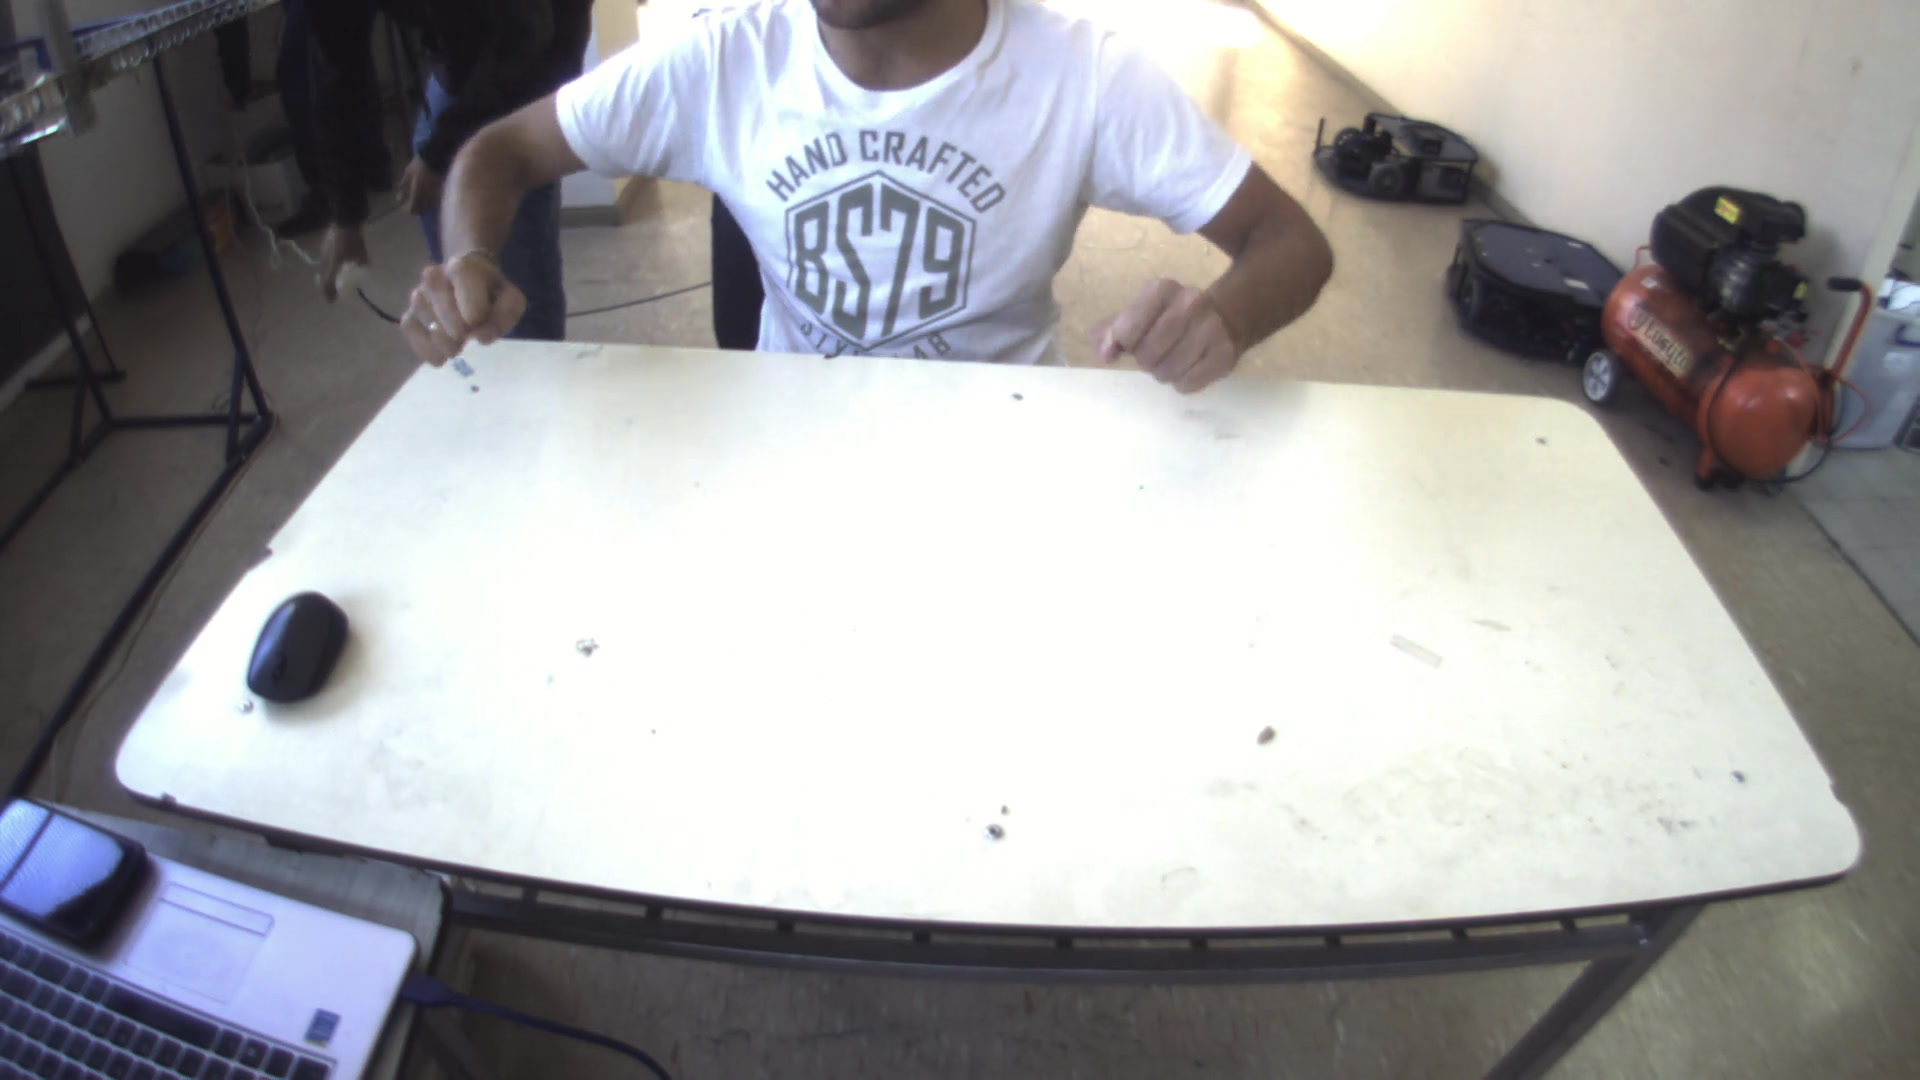hand: (386, 237, 524, 373), (1104, 270, 1251, 396)
